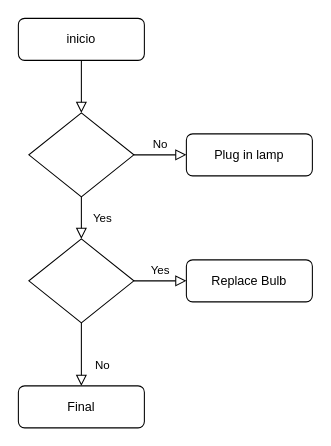
Image size: 331x446. Some labels were removed from this diagram. The shapes that lost their labels are listed below. From the top down, each one's centre as x and y in pixels, then its label:
(x=81, y=154): Lamp plugged in?
(x=81, y=280): Bulb burned out?
